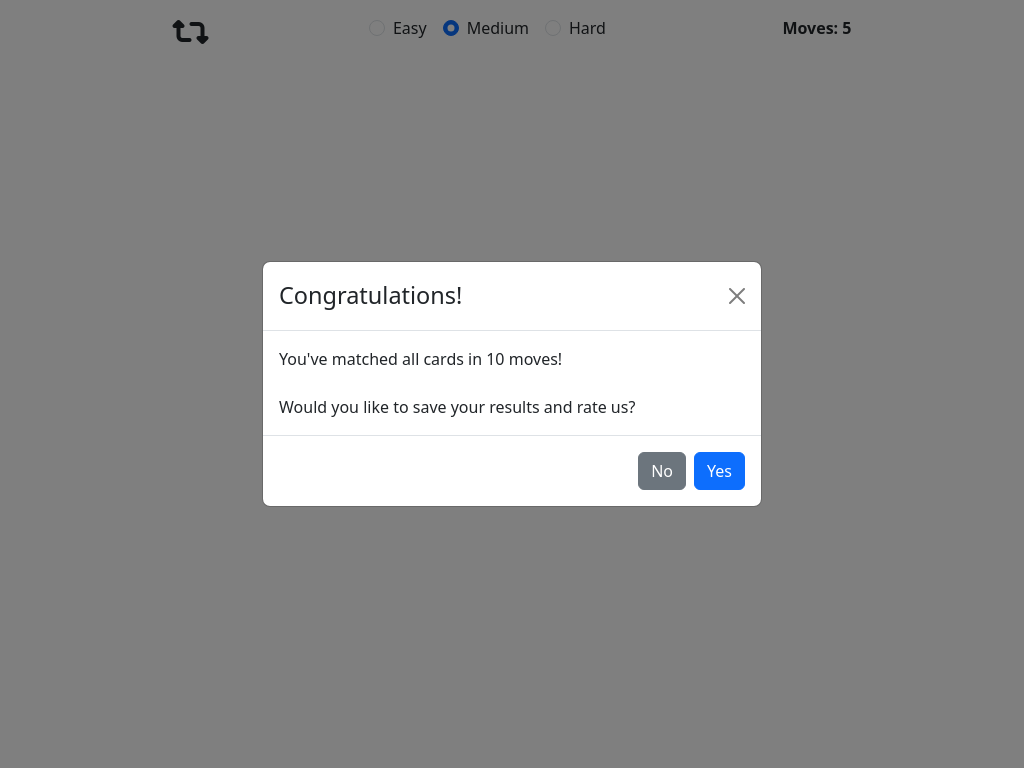
GameControl component › displays the review form when clicking the "Yes" button
The width and height of the screenshot is (1024, 768).
Click the button "Yes".
click(720, 471)  # box [694,452,745,490]
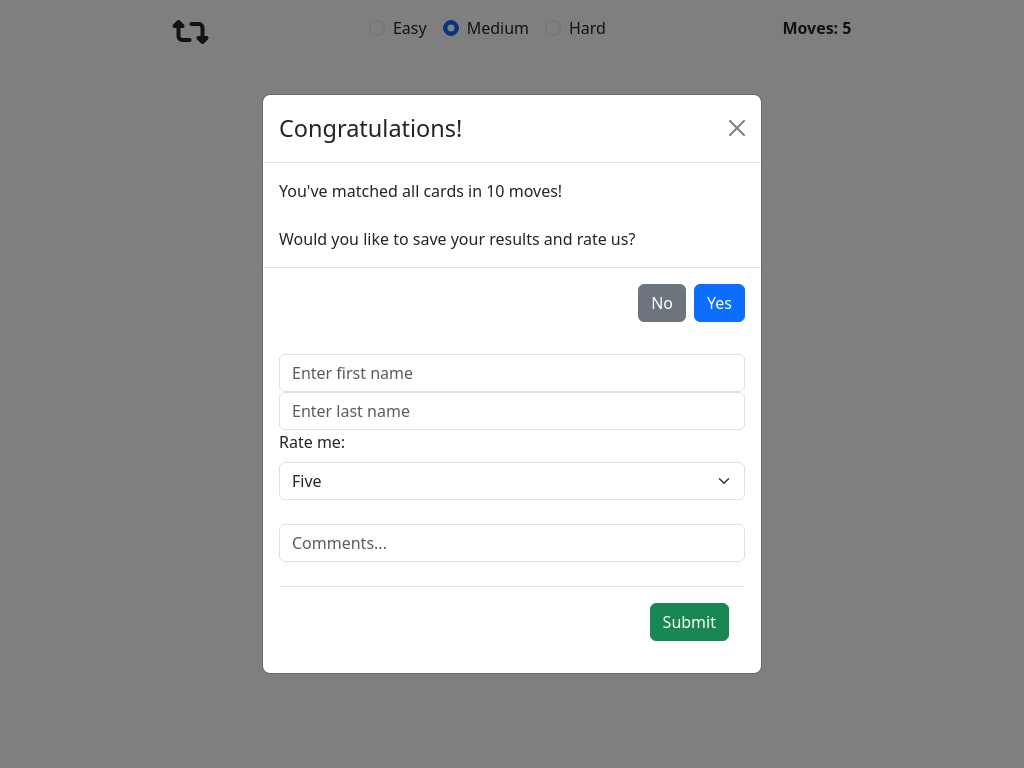
Check: the field with placeholder "Enter first name" is shown, box [279,354,745,392]
Check: the field with placeholder "Enter last name" is shown, box [279,392,745,430]
Check: the dropdown labelled "Rate me:" is shown, box [279,462,745,500]
